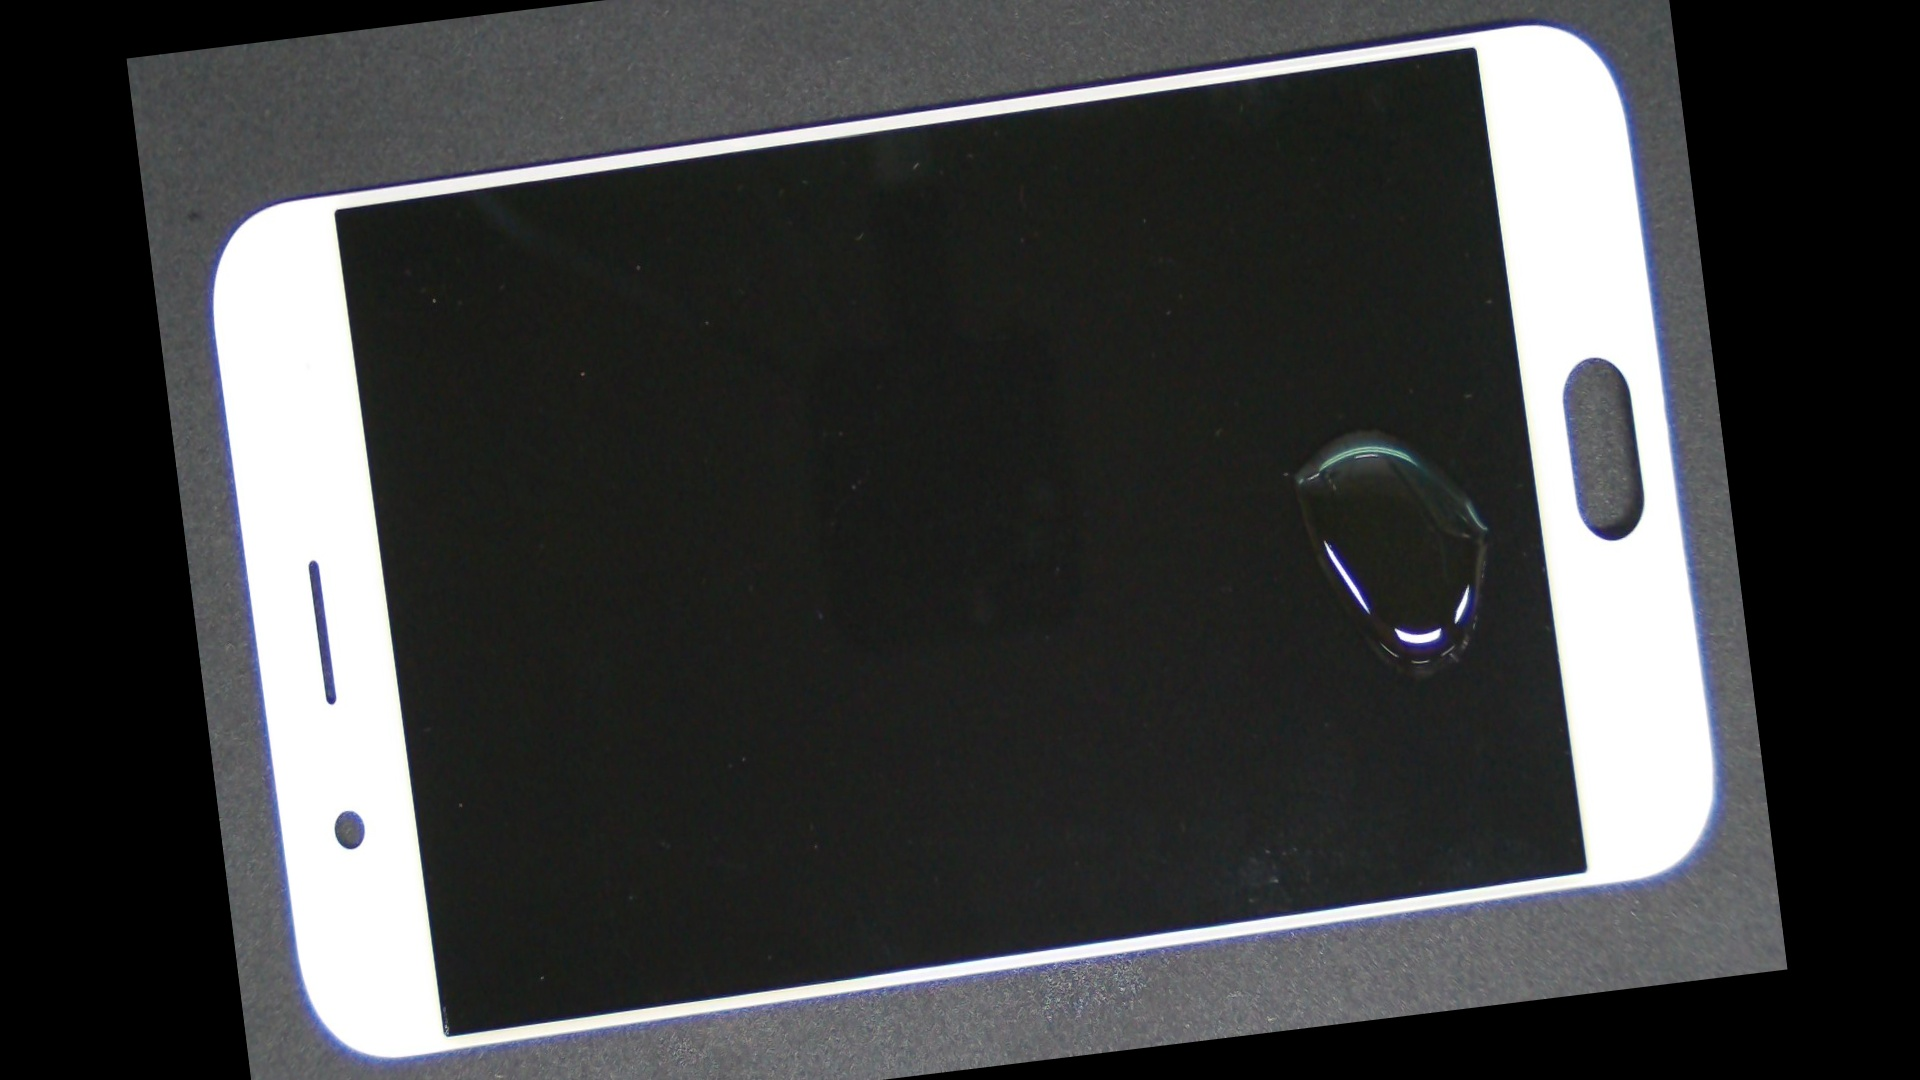oil: (746, 129, 1749, 760)
